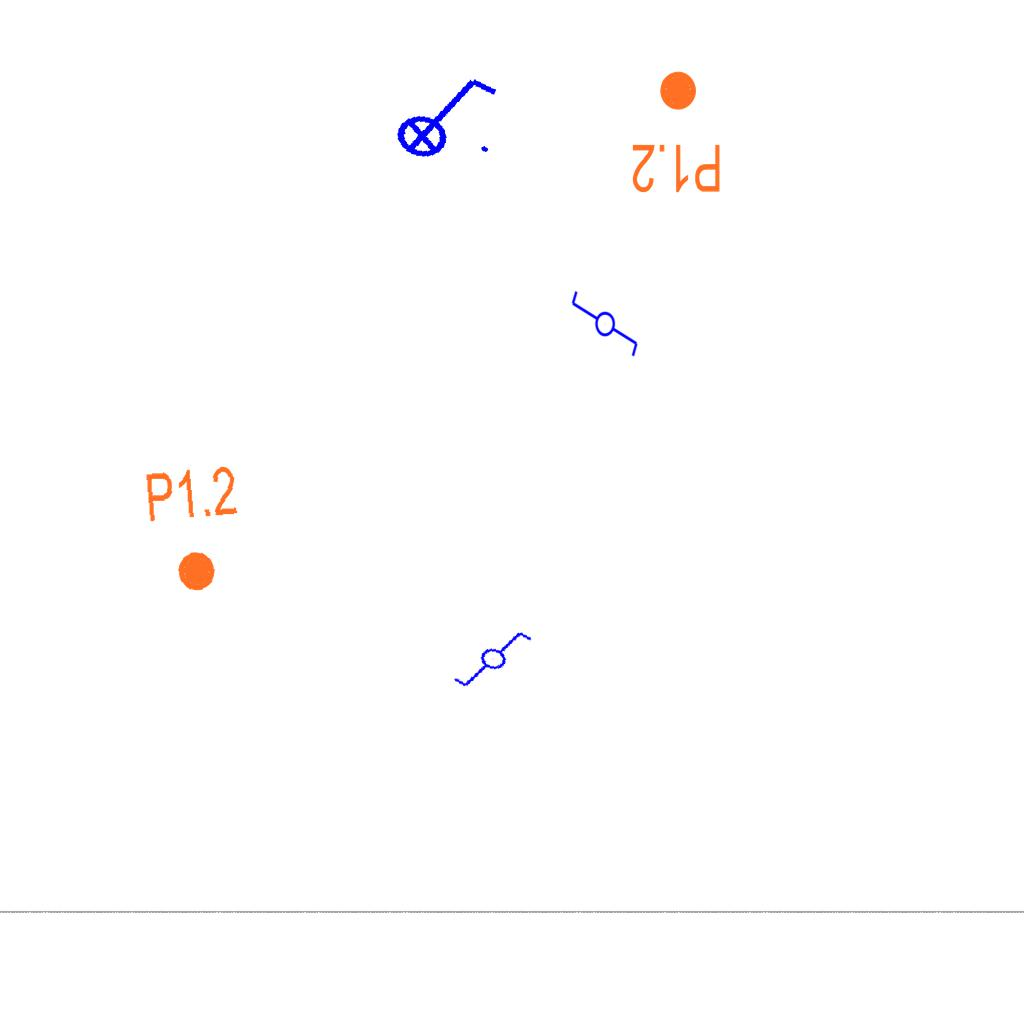Ausschalter_beleuchtet: (379, 56, 509, 172)
Downlight_LED_Einbauleuchten_Flur: (142, 462, 247, 598), (630, 68, 723, 196)
Wechselschalter: (450, 616, 544, 706), (568, 289, 640, 367)
